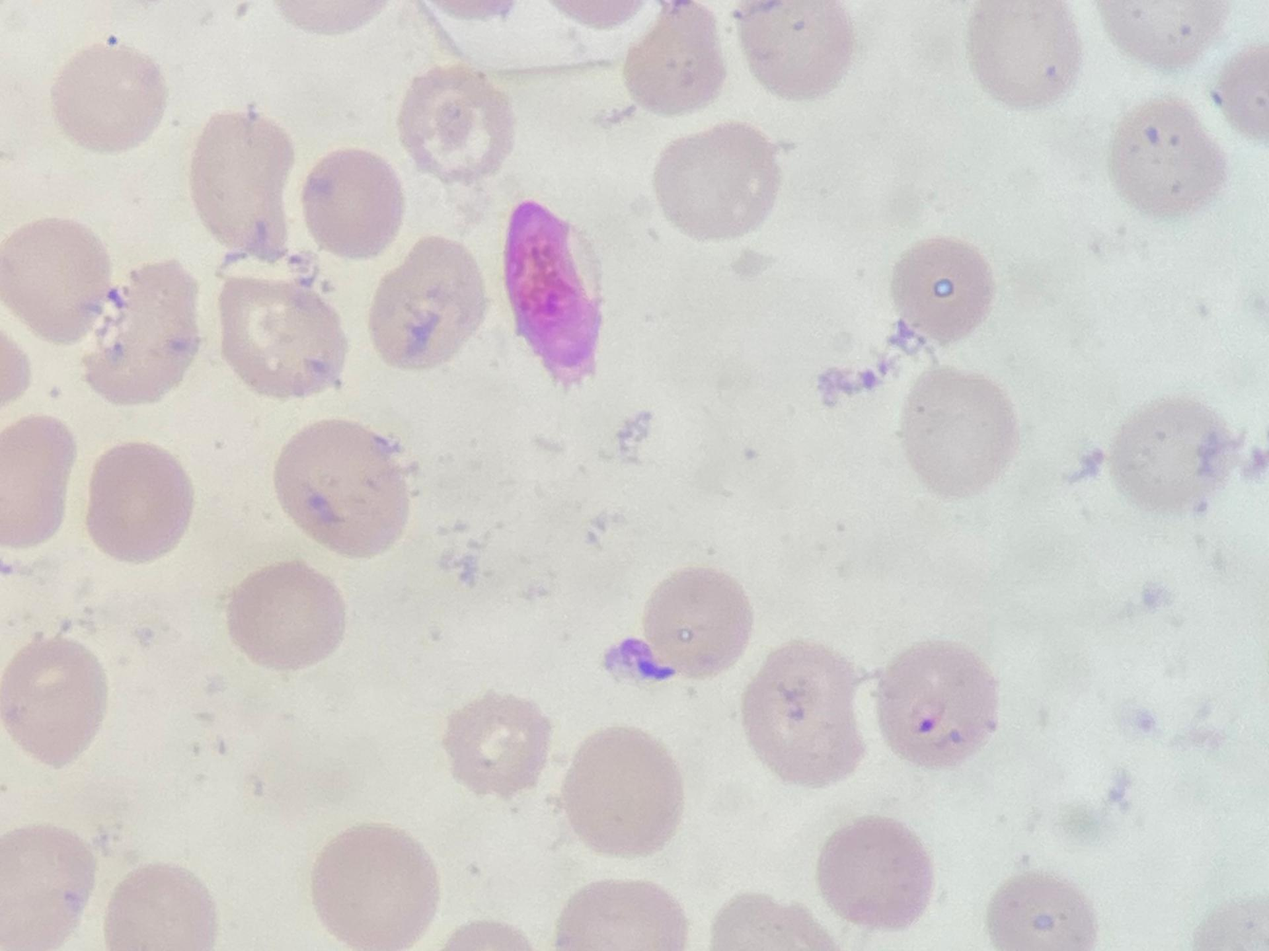Infected: (502, 200, 605, 387)
Uninfected: (273, 419, 410, 556), (740, 640, 867, 782), (79, 261, 203, 404), (217, 271, 347, 398), (874, 640, 1000, 769), (188, 106, 291, 263), (367, 235, 485, 370), (558, 728, 682, 856), (310, 826, 438, 948), (1108, 395, 1239, 513), (900, 367, 1019, 496), (653, 123, 781, 239), (1109, 94, 1230, 215), (0, 633, 107, 766), (0, 216, 111, 344), (397, 64, 516, 183), (816, 816, 934, 932), (84, 442, 197, 563), (225, 563, 346, 673), (640, 567, 751, 678), (53, 47, 168, 154), (969, 1, 1083, 108), (736, 0, 855, 100), (442, 691, 552, 798), (0, 827, 95, 948), (623, 5, 726, 116), (891, 235, 997, 342), (302, 147, 404, 256), (0, 414, 79, 549), (104, 862, 216, 949), (554, 880, 683, 951), (986, 872, 1096, 951)
